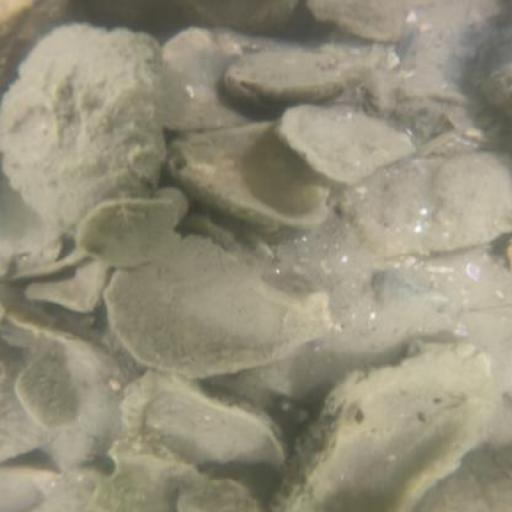Oyster-Closed: (1, 24, 172, 238), (305, 1, 411, 42)
